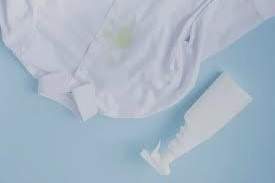oil: (99, 21, 136, 49)
